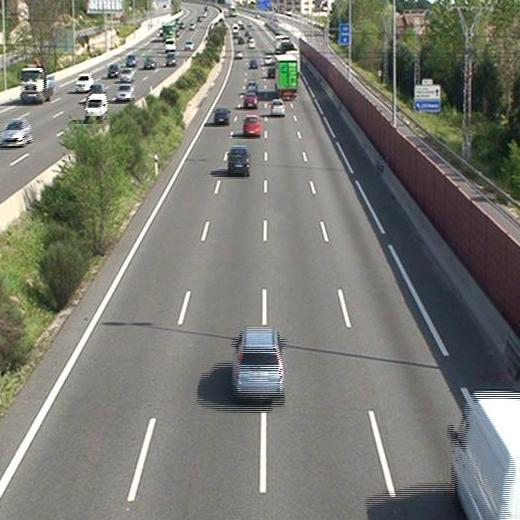car: (231, 328, 286, 401), (227, 145, 251, 174), (242, 114, 262, 137), (213, 106, 231, 124), (270, 98, 285, 116), (243, 93, 258, 108), (244, 81, 258, 92)
truck: (274, 53, 297, 100)
van: (449, 390, 520, 520)
